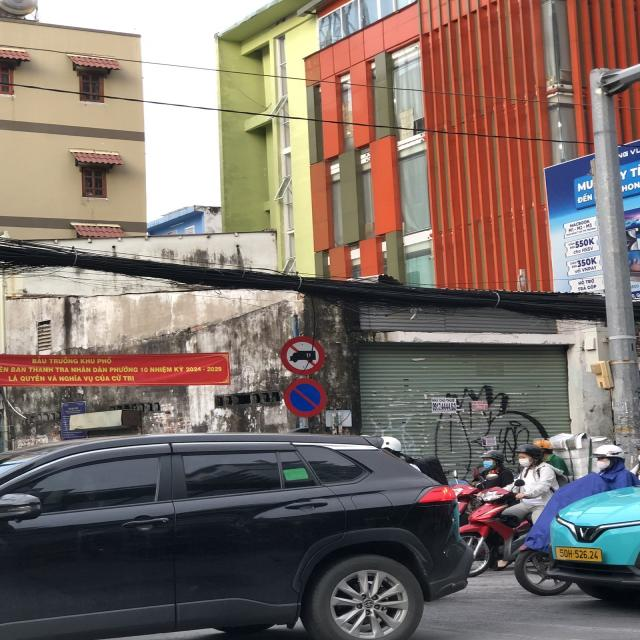Bien bao cam do xe: (282, 377, 328, 418)
Bien bao cam xe oto tai: (279, 335, 329, 376)
